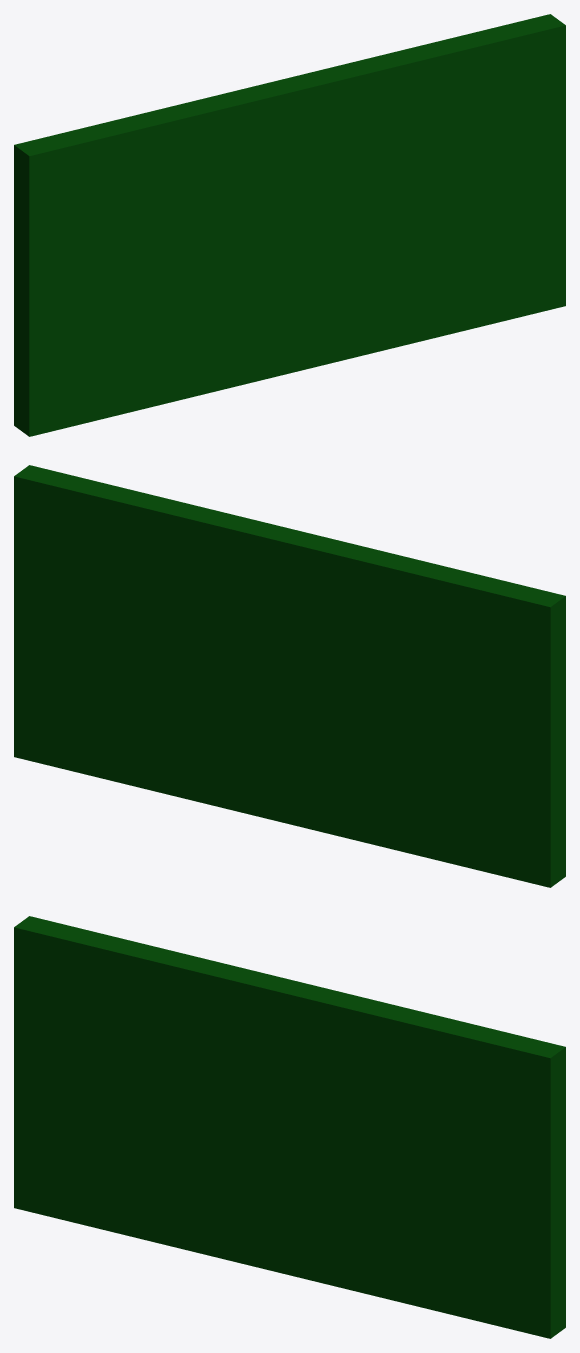
The model's file is wall-green.glb.
3 views of the same model, one above another, from view 1: azimuth 30°, elevation 25°; view 2: azimuth 150°, elevation 25°; view 3: azimuth 330°, elevation 25° (orthographic).
Parts seen in each view (by area): view 1: Modular_wall; view 2: Modular_wall; view 3: Modular_wall.
Part boxes in pixels (x1,y1,x2,y2): Modular_wall: (14,14,565,436); Modular_wall: (14,465,565,887); Modular_wall: (14,916,565,1338).
Bounding box in the file's own units: 20 × 10 × 1.
